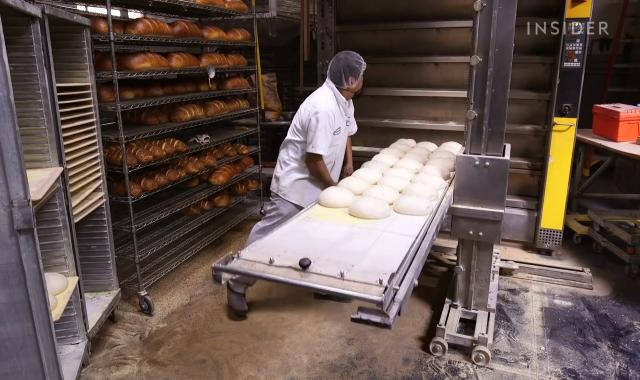hairnet: (325, 50, 367, 88)
